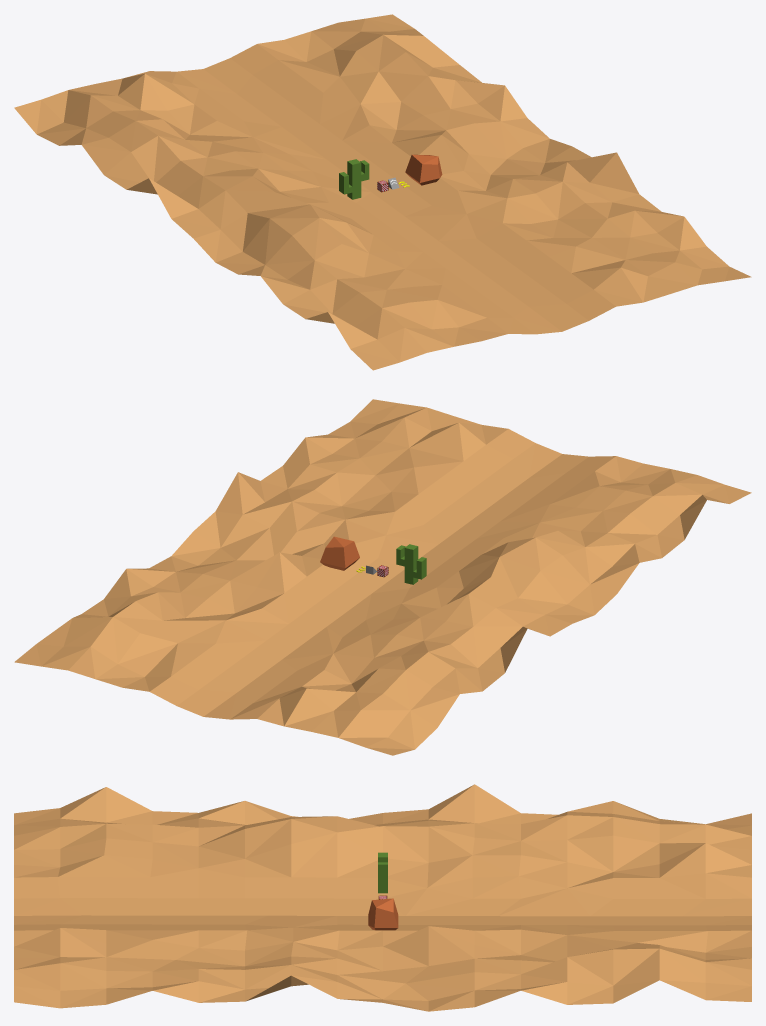
The model's file is shamo.fbx.
3 views of the same model, one above another, from view 1: azimuth 30°, elevation 25°; view 2: azimuth 150°, elevation 25°; view 3: azimuth 270°, elevation 25° (orthographic). The views are drawn at different scales.
Visible parts, largest first — view 1: dixing, baijian_1, baijian_2; view 2: dixing, baijian_2, baijian_1; view 3: dixing, baijian_2, baijian_1.
Part boxes in pixels (x1,y1,x2,y2): dixing: [14, 14, 751, 370]; baijian_1: [339, 159, 369, 199]; baijian_2: [405, 154, 442, 185]; dixing: [14, 399, 751, 755]; baijian_2: [320, 536, 359, 570]; baijian_1: [396, 544, 426, 584]; dixing: [14, 784, 751, 1011]; baijian_2: [368, 898, 398, 930]; baijian_1: [378, 852, 387, 893].
Size of the model in its own units: 2088 by 258 by 3425.
